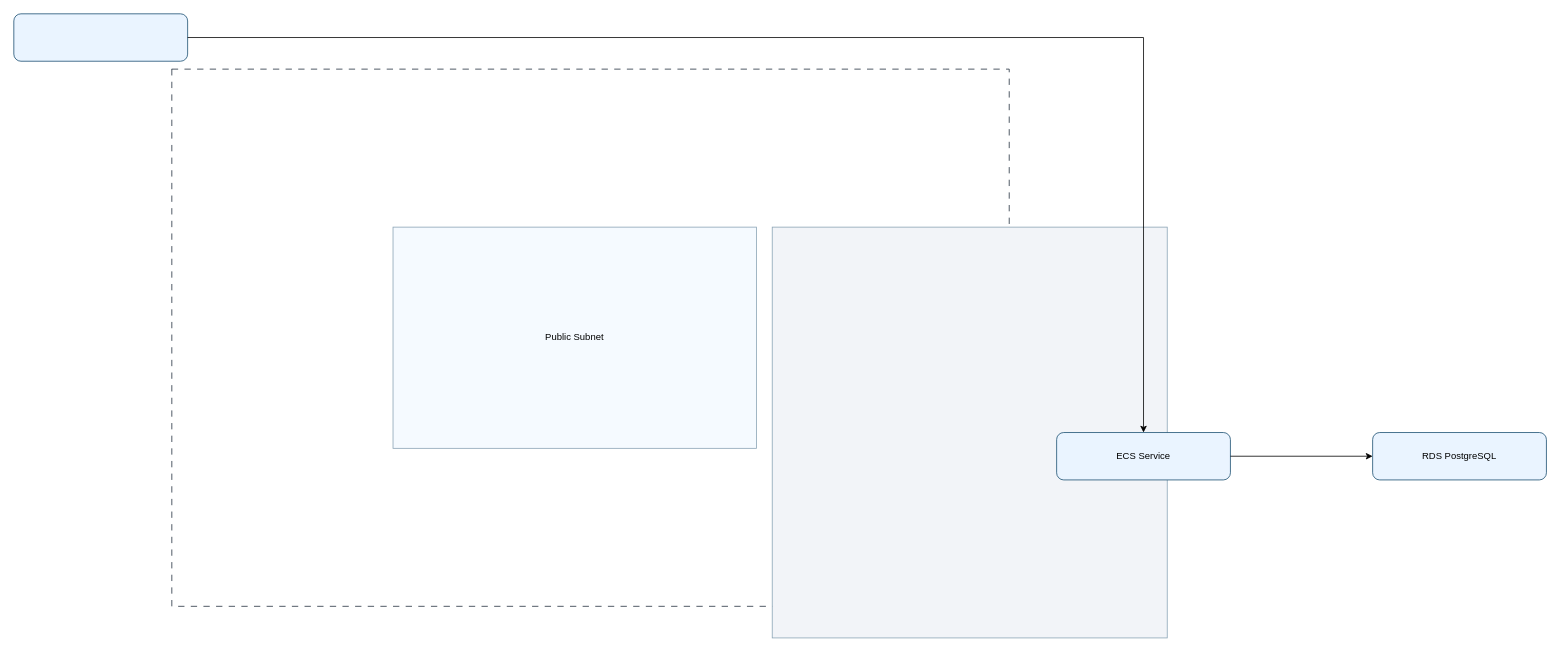
This 1560x652 diagram has some shape labels left out. The shapes that lost their labels are listed below. From the top down, each one's box as (x1, y1, x2, y2) in pixels, then its label:
(13, 13, 188, 61): Application Load Balancer
(771, 226, 1167, 638): Private Subnet
